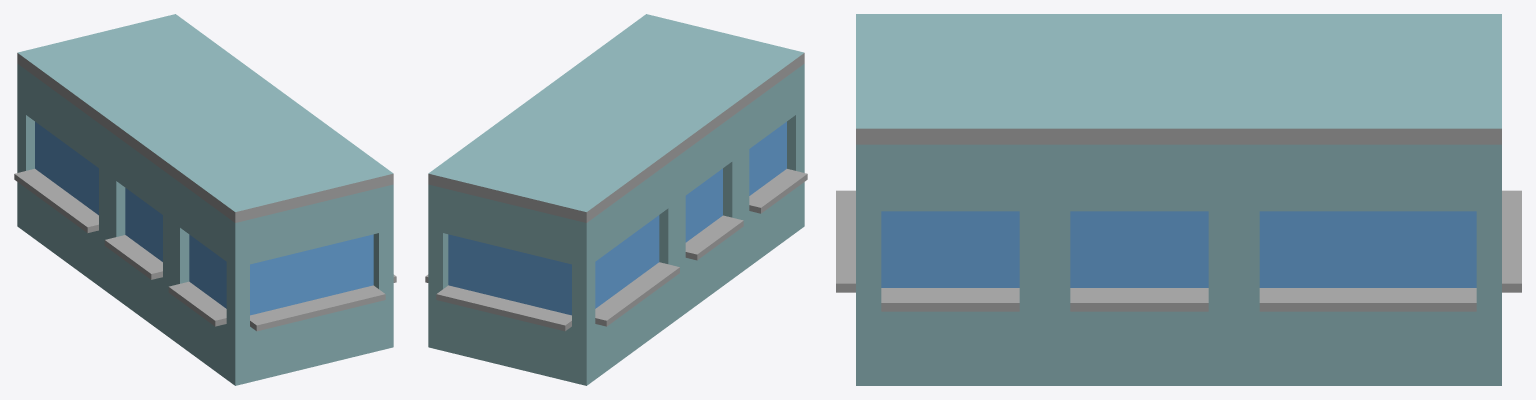
Rendered from building_1x2_2_f_blue.glb.
3 views of the same model, side by side, from view 1: azimuth 30°, elevation 25°; view 2: azimuth 150°, elevation 25°; view 3: azimuth 270°, elevation 25° (orthographic). The views are drawn at different scales.
Visible parts, largest first — view 1: Cube.001; view 2: Cube.001; view 3: Cube.001.
Boxes of the visible parts, bbox=[...] form: Cube.001: bbox=[14, 14, 396, 385]; Cube.001: bbox=[425, 14, 807, 385]; Cube.001: bbox=[836, 14, 1521, 385].
Bounding box in the file's own units: 1.75 × 1.6 × 3.86.
